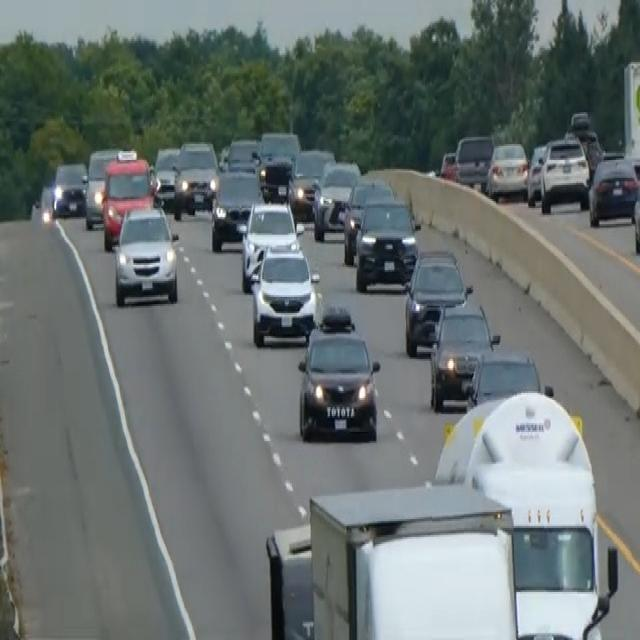car: (296, 306, 381, 442), (428, 298, 499, 411), (250, 240, 320, 347), (403, 246, 471, 356), (354, 196, 418, 292), (239, 198, 300, 292), (100, 153, 157, 249), (467, 348, 547, 411), (342, 174, 394, 263), (209, 167, 262, 253), (539, 135, 590, 213), (312, 158, 360, 240), (588, 153, 639, 226), (172, 139, 219, 217), (287, 146, 335, 220), (83, 146, 118, 228), (485, 139, 529, 201), (453, 132, 493, 188), (51, 160, 88, 217), (565, 126, 602, 176), (257, 153, 293, 203), (152, 144, 180, 206), (258, 128, 300, 167), (224, 135, 260, 174), (526, 143, 548, 205), (31, 181, 55, 226), (632, 172, 639, 256), (438, 150, 456, 180)
jeep: (111, 201, 181, 307)
